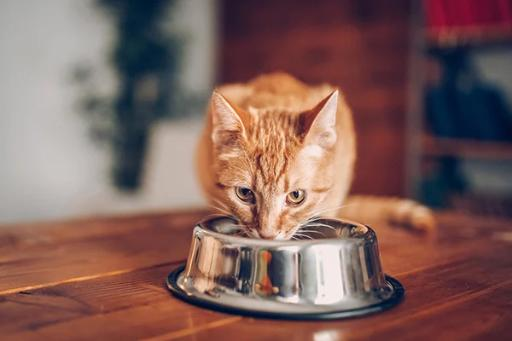cat_eating: (166, 73, 434, 321)
